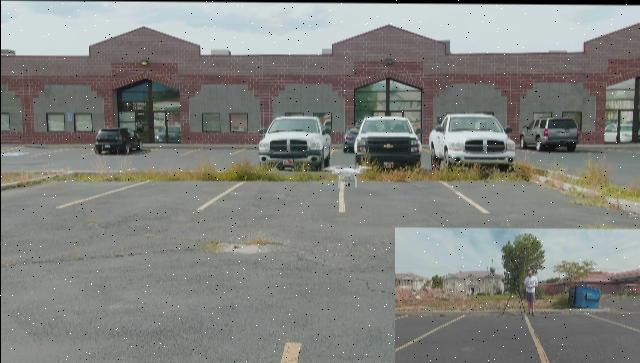drone: (326, 162, 368, 186)
